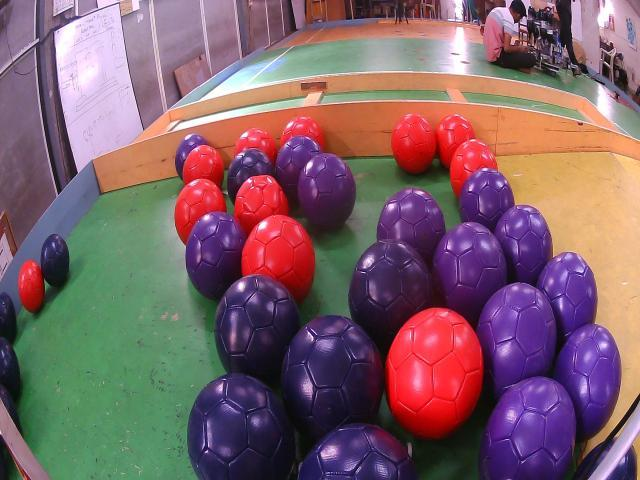jambhalya: (479, 377, 576, 480), (476, 283, 556, 400), (431, 222, 508, 327), (554, 323, 621, 439), (538, 252, 598, 347), (376, 188, 446, 267), (185, 212, 246, 300), (494, 205, 552, 286), (298, 153, 356, 230), (459, 167, 515, 232), (275, 135, 322, 202), (175, 133, 208, 178)
kaalyya: (281, 315, 384, 441), (188, 373, 295, 480), (349, 238, 432, 351), (214, 275, 300, 380), (298, 423, 418, 480), (228, 148, 275, 203), (40, 233, 70, 287), (0, 337, 21, 400), (0, 293, 16, 343)
